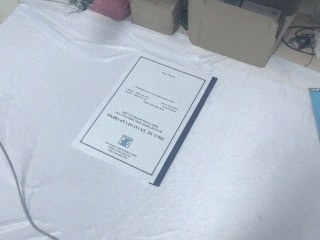box: (187, 1, 286, 68), (129, 1, 190, 36)
